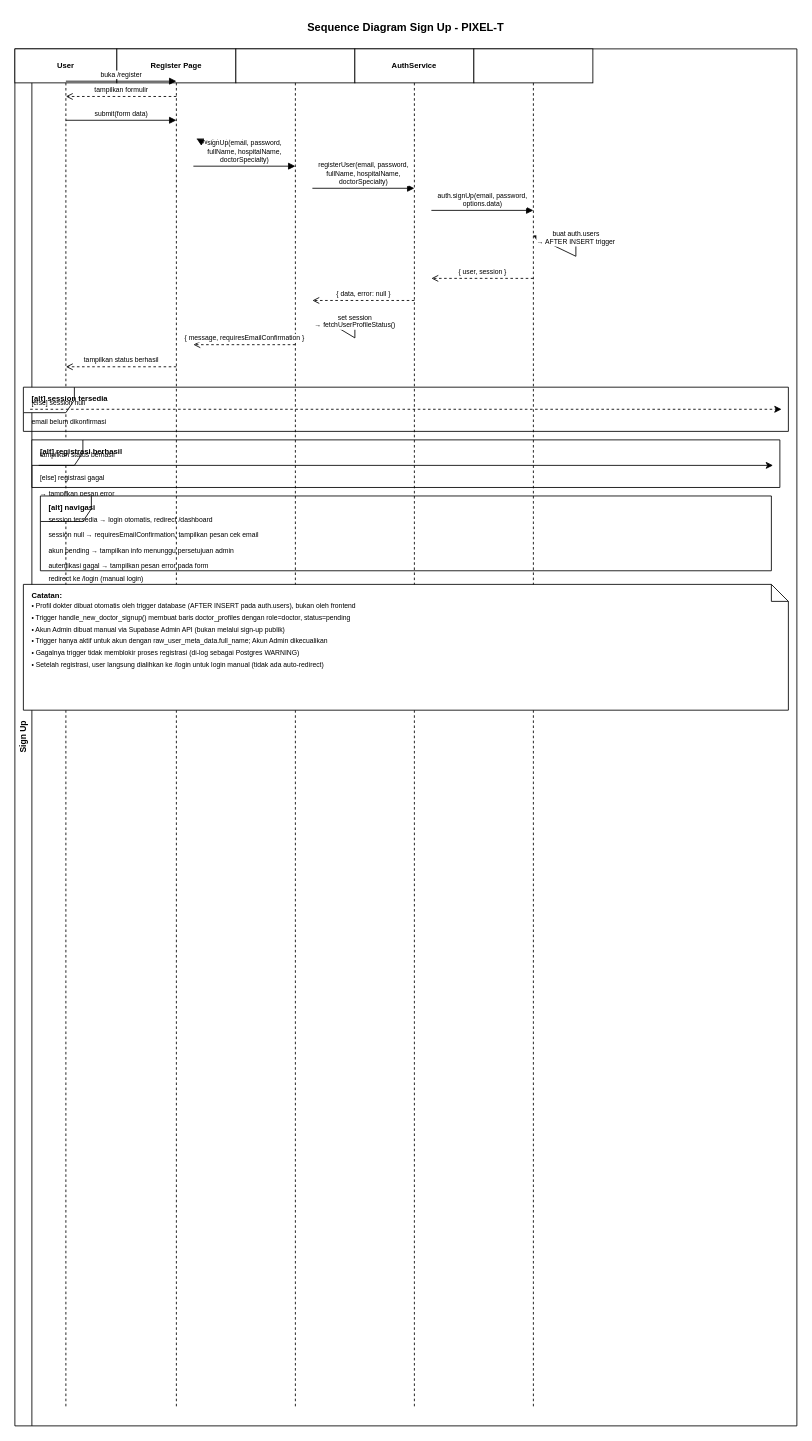
This 812x1441 diagram has some shape labels left out. Here are the shapes that lost their labels. From the top down, the centre of each, then its label:
pixel 295 728: AuthContext
pixel 533 728: Supabase Auth
